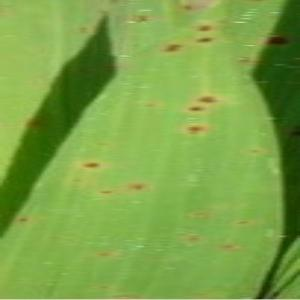Brown_Spot: (258, 29, 292, 51), (73, 155, 109, 174), (192, 88, 224, 107), (154, 39, 185, 57), (231, 48, 256, 70), (228, 212, 255, 232), (182, 228, 206, 248), (124, 177, 150, 194), (181, 122, 208, 138), (216, 237, 240, 255), (129, 9, 152, 26), (285, 119, 300, 144), (193, 21, 216, 37), (71, 23, 92, 40), (189, 34, 216, 47), (138, 98, 159, 113), (184, 101, 205, 115), (94, 245, 112, 261), (13, 211, 32, 226), (93, 187, 116, 198), (245, 144, 264, 157)
